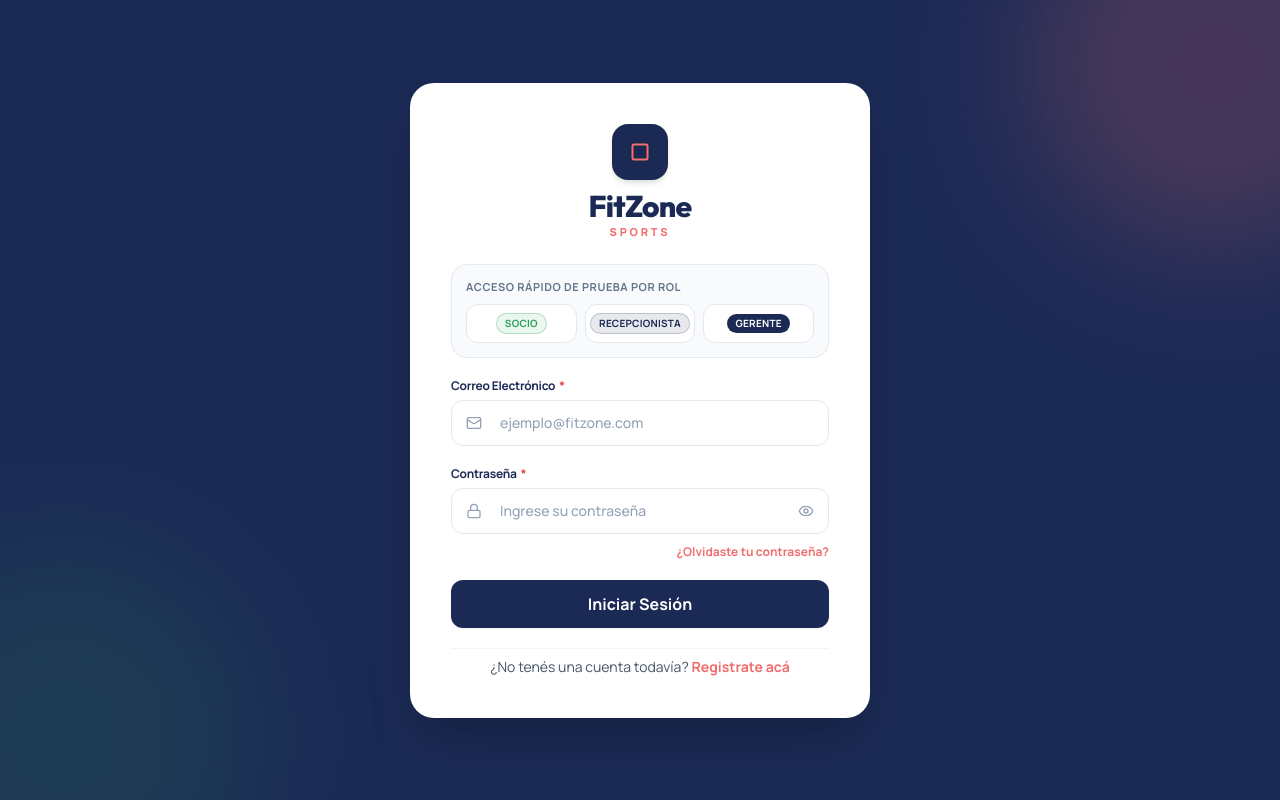
Scenario: SCRUM-89: LoginPage Component & Role Redirection › muestra banner de error si las credenciales son incorrectas
This screenshot has width=1280, height=800.
In the field labelled "Correo Electrónico*": (657, 422) left=486, top=400, right=828, bottom=444, type "socio@fitzone.com"
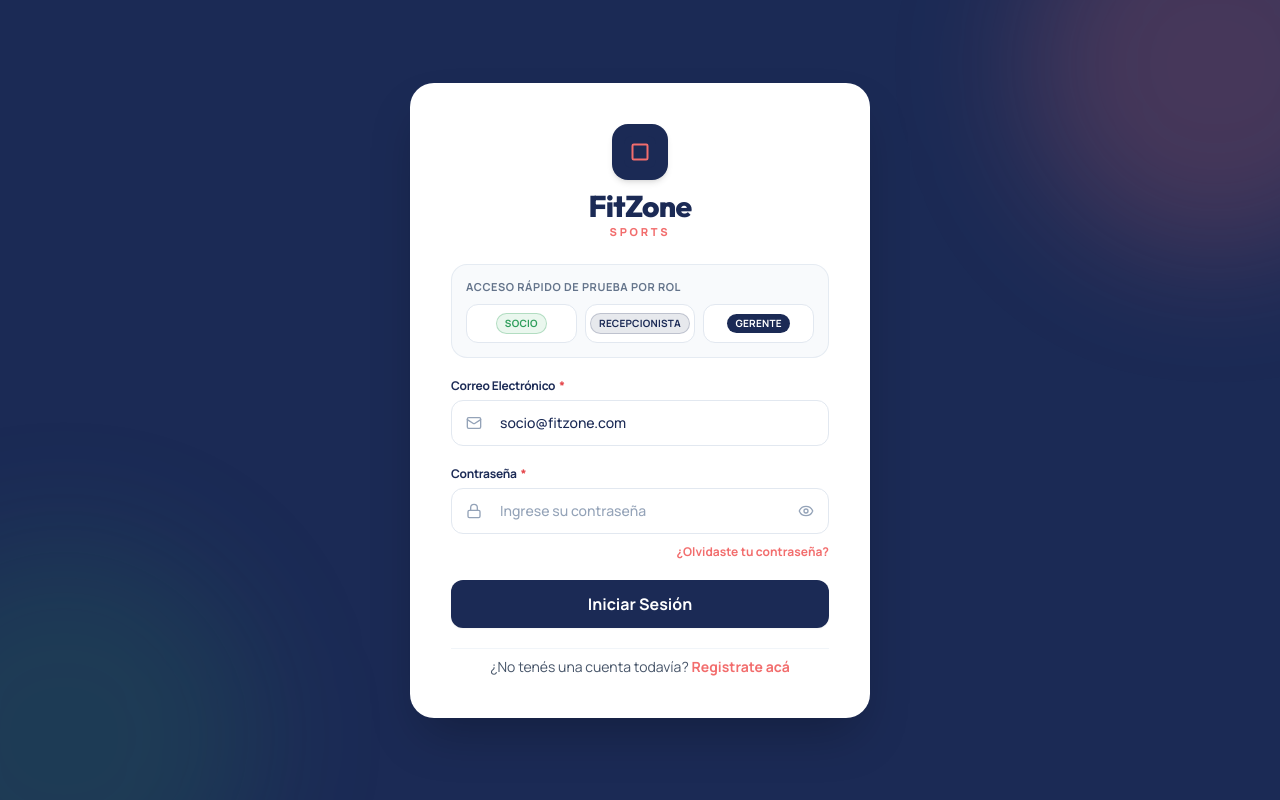
In the password field labelled "Contraseña*": (640, 510) left=486, top=488, right=794, bottom=532, type "claveInvalida"
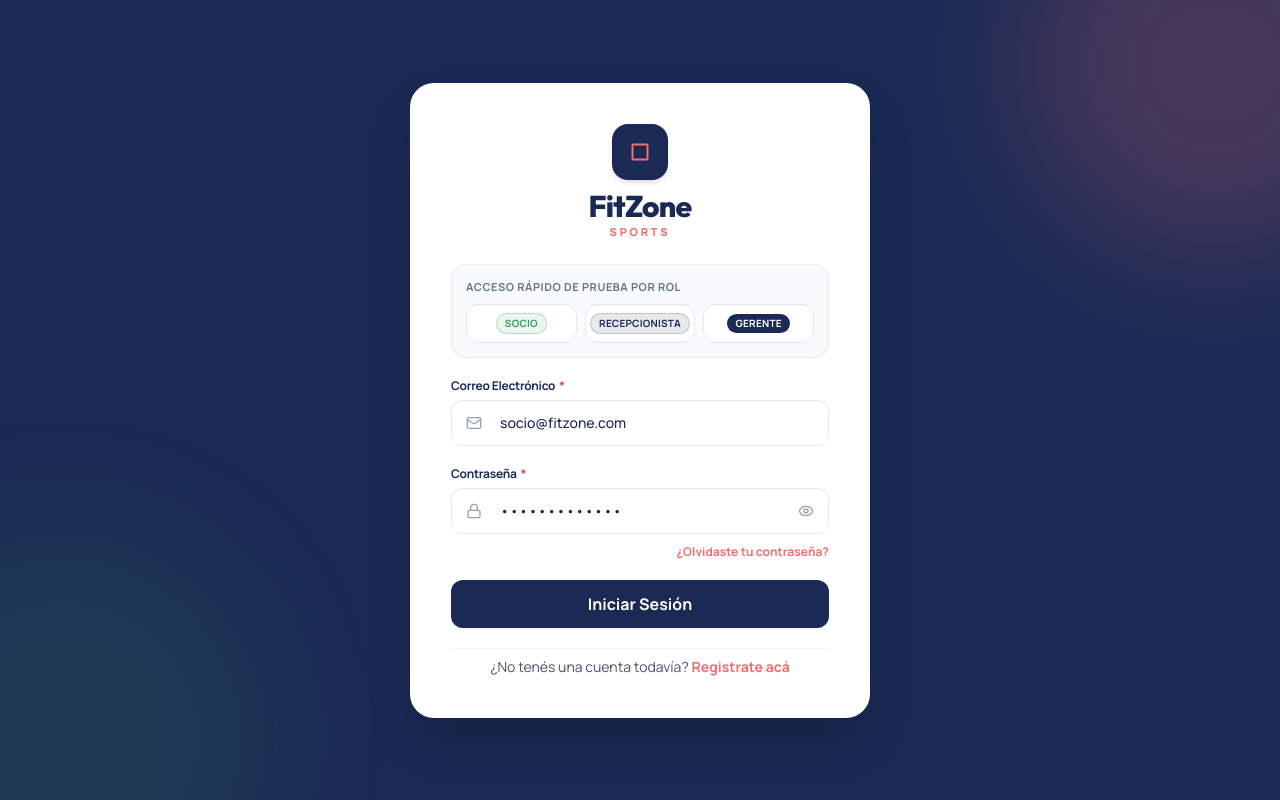
Click the button "Iniciar Sesión": (640, 604) left=451, top=580, right=829, bottom=628
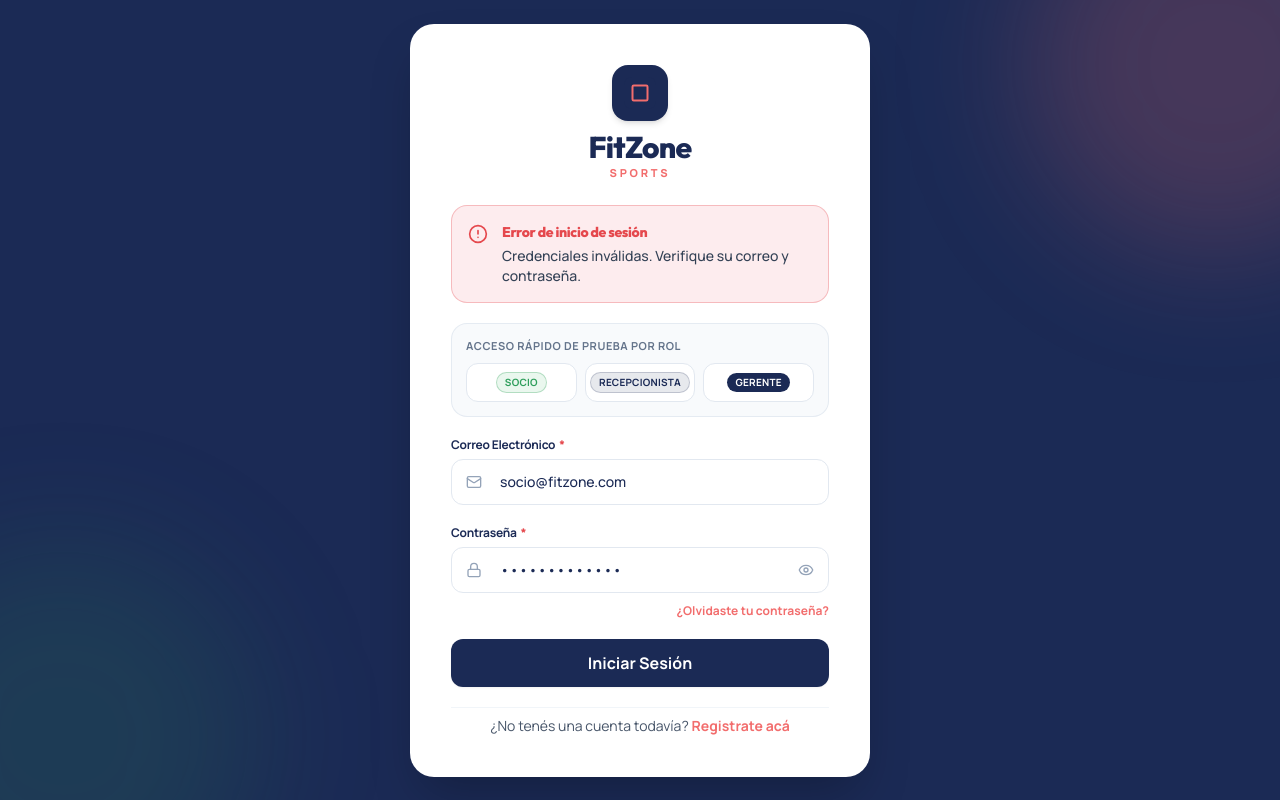
Expected: the heading "Error de inicio de sesión" is shown, left=502, top=223, right=647, bottom=241
